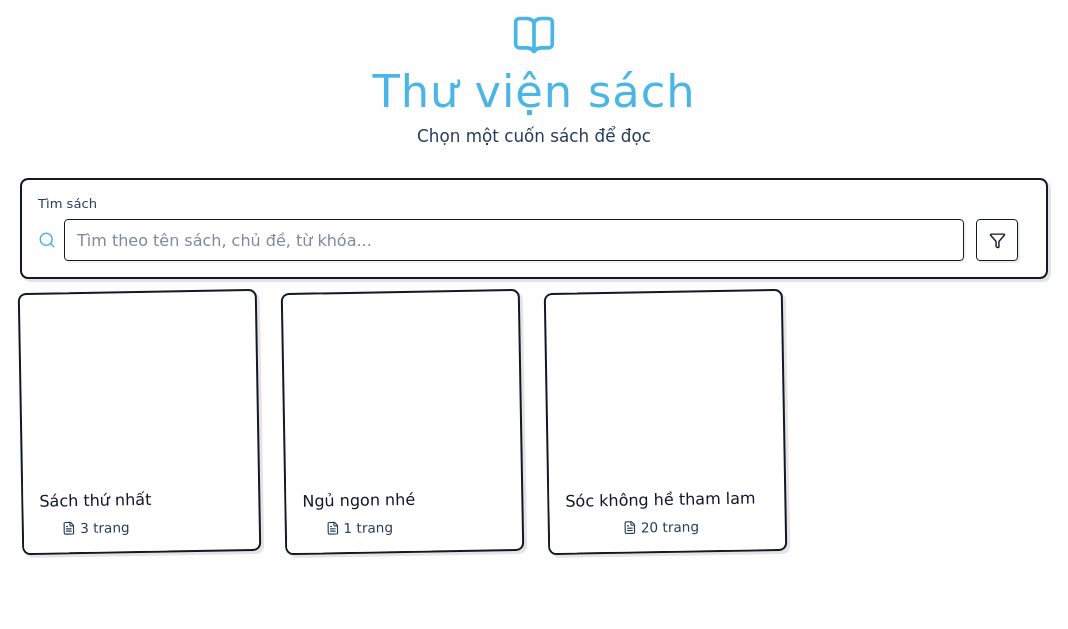
Test: BookListPage › applies a subject suggestion to the search query
The image size is (1068, 629).
Type "ky nang" into the search field labelled "Tìm sách" at {"x": 514, "y": 240}, box left=64, top=219, right=964, bottom=261
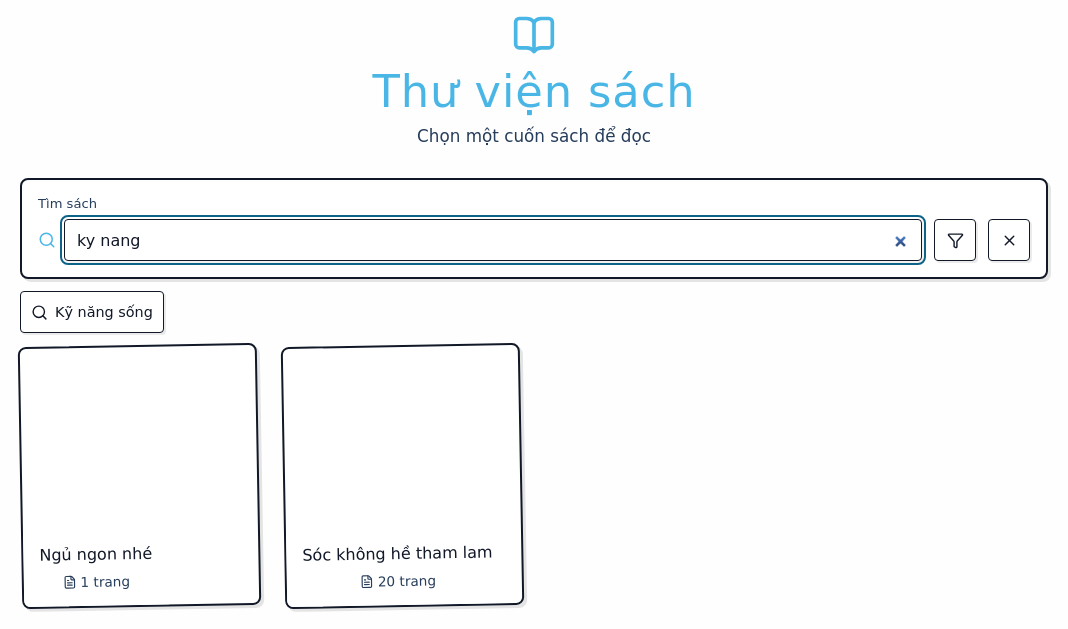
Click the button with aria-label "Tìm theo gợi ý: Kỹ năng sống" at {"x": 92, "y": 312}, box left=20, top=291, right=164, bottom=333
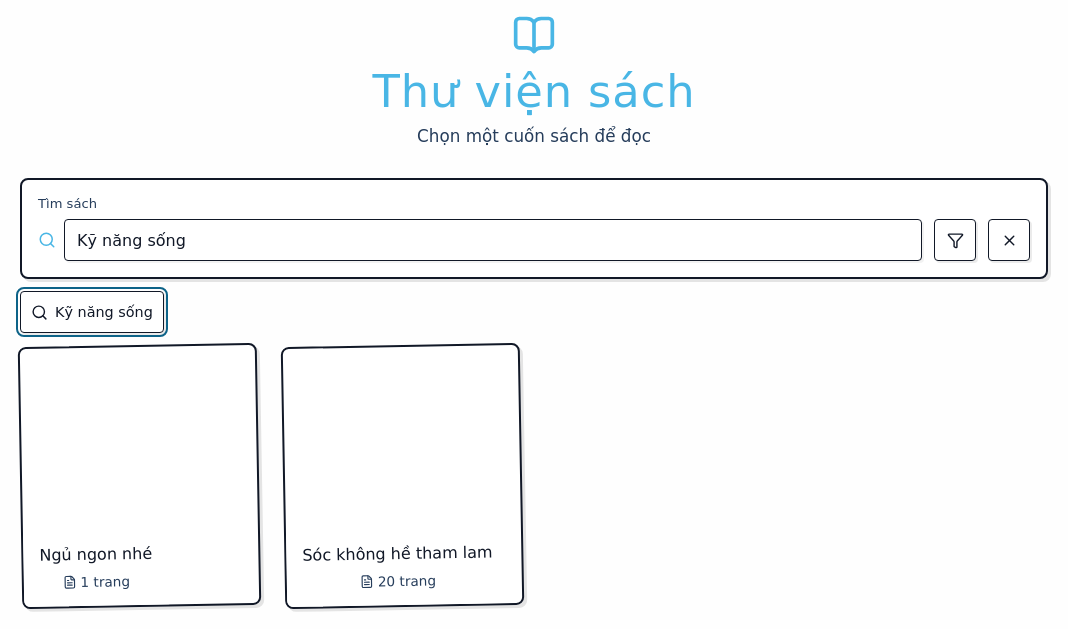
Expected: the text "Ngủ ngon nhé" is shown, left=39, top=543, right=152, bottom=566
Expected: the search field labelled "Tìm sách" holds "Kỹ năng sống", left=64, top=219, right=922, bottom=261
